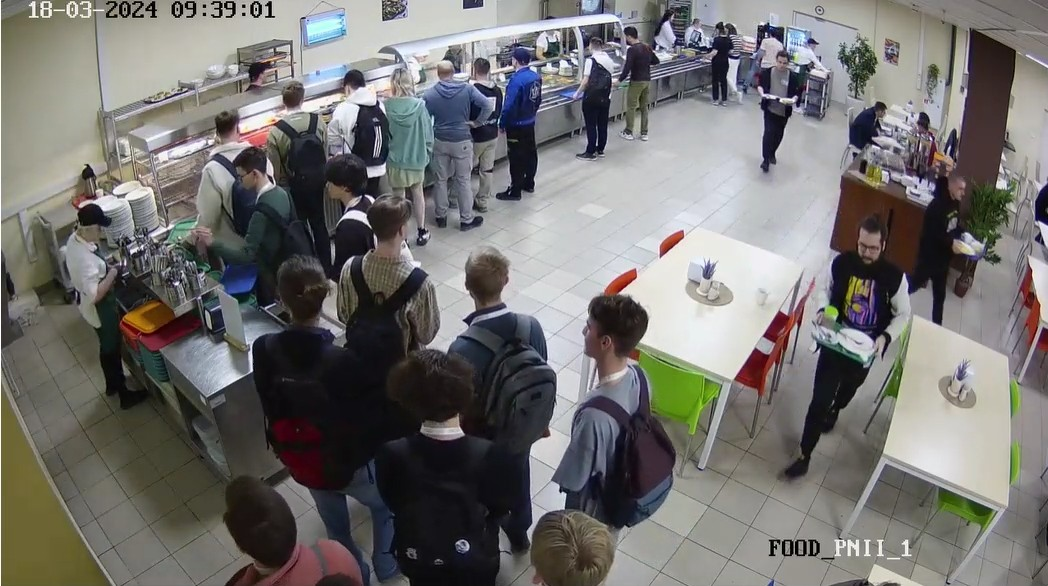Na_Kasse: (705, 29, 727, 106), (726, 16, 743, 102), (797, 33, 824, 87), (757, 25, 777, 89)
Ne_v_Ocheredi: (366, 348, 510, 586), (256, 249, 376, 529), (444, 244, 566, 503), (777, 220, 893, 476), (560, 294, 667, 527), (201, 467, 375, 586), (500, 497, 670, 586), (342, 194, 431, 361), (918, 167, 971, 335), (765, 58, 798, 170)
Personal: (57, 202, 162, 422), (536, 16, 568, 57), (652, 4, 679, 47), (239, 60, 270, 88), (685, 12, 706, 46), (404, 46, 433, 70), (443, 46, 469, 63)
Vybiraet: (206, 148, 315, 284), (179, 103, 260, 244), (268, 70, 327, 240), (386, 66, 439, 236), (430, 60, 483, 227), (330, 62, 389, 197), (317, 153, 380, 261), (502, 54, 540, 203), (473, 60, 499, 214), (574, 35, 607, 155), (620, 25, 653, 140)
Za_Stolom: (845, 100, 891, 173), (905, 102, 932, 145), (1031, 169, 1048, 231)
